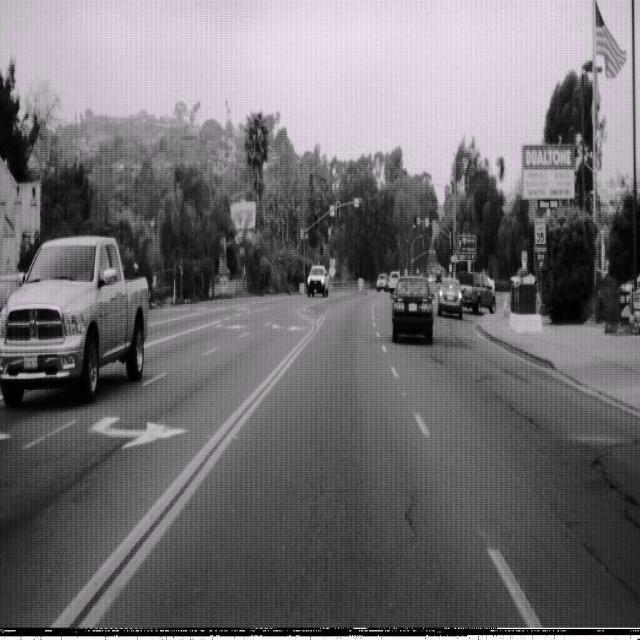speedLimit35: (534, 216, 546, 246)
